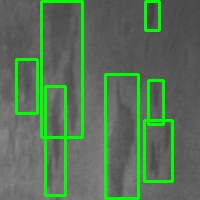inclusion: (41, 1, 82, 137), (105, 74, 138, 198), (45, 86, 65, 195), (144, 120, 172, 181), (16, 59, 37, 113), (148, 80, 163, 124), (145, 1, 159, 30)
